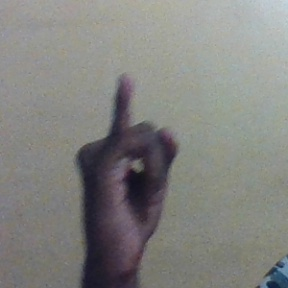I: (73, 71, 182, 269)
